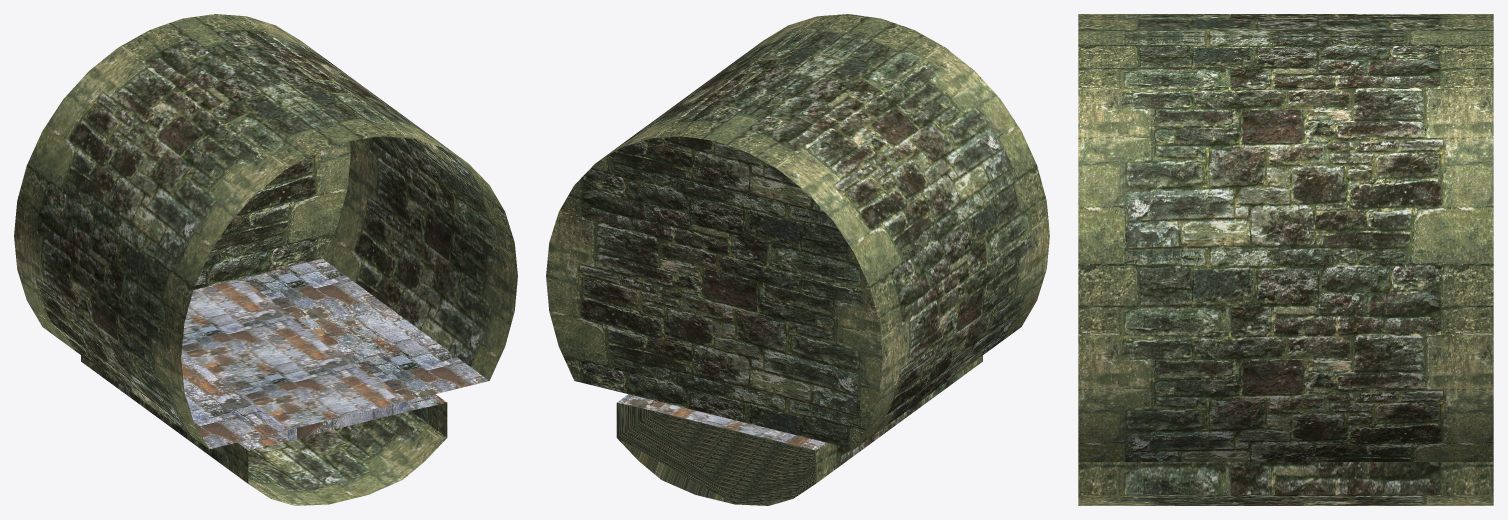
The model's file is Sewer_Deadend.FBX.
3 renders of one model, left to right at view 1: azimuth 30°, elevation 25°; view 2: azimuth 150°, elevation 25°; view 3: azimuth 270°, elevation 25°, orthographic. The views are drawn at different scales.
Parts seen in each view (by area): view 1: Sewer_Deadend; view 2: Sewer_Deadend; view 3: Sewer_Deadend.
Boxes of the visible parts, box(x1,y1,x2,y2) form: Sewer_Deadend: box(14, 14, 517, 505); Sewer_Deadend: box(546, 14, 1049, 505); Sewer_Deadend: box(1078, 14, 1493, 505).
Size of the model in its own units: 592 by 602 by 509.
2 materials, 2 textured.
